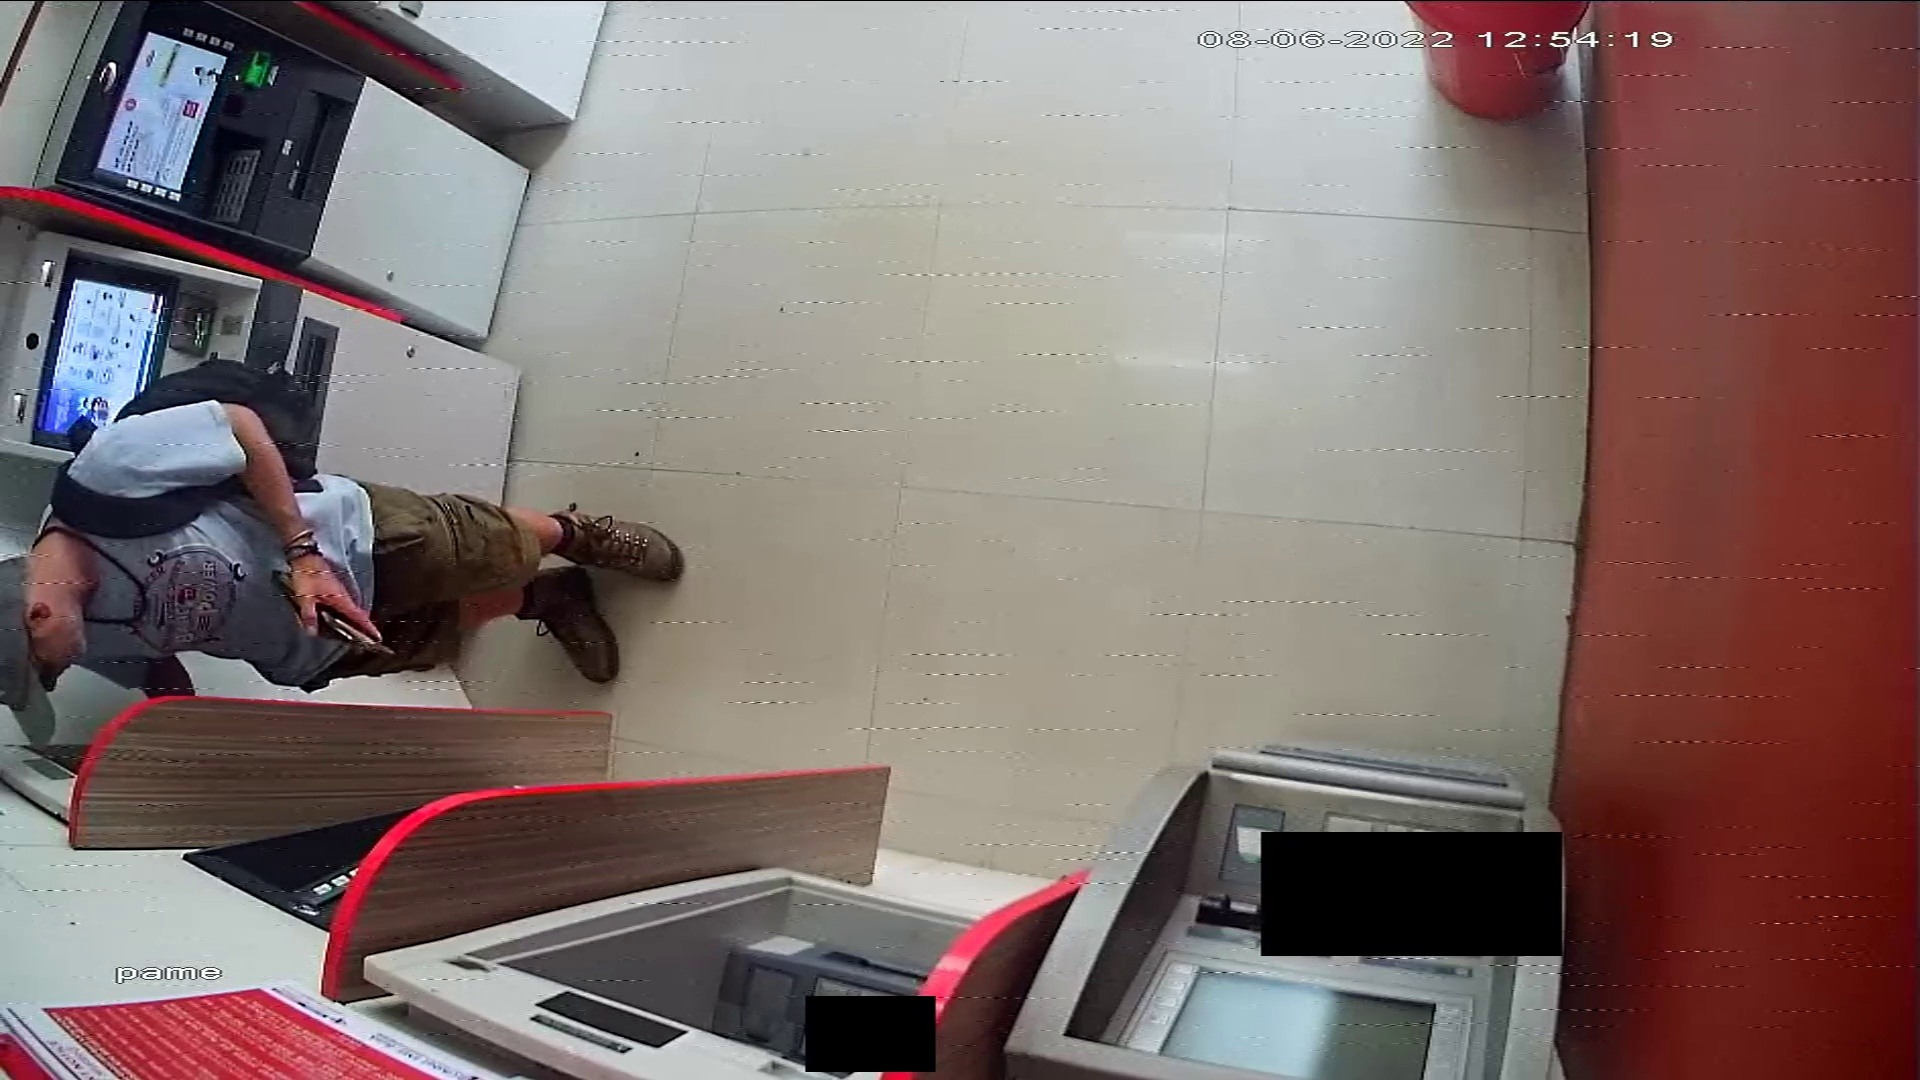person: (1, 395, 688, 704)
